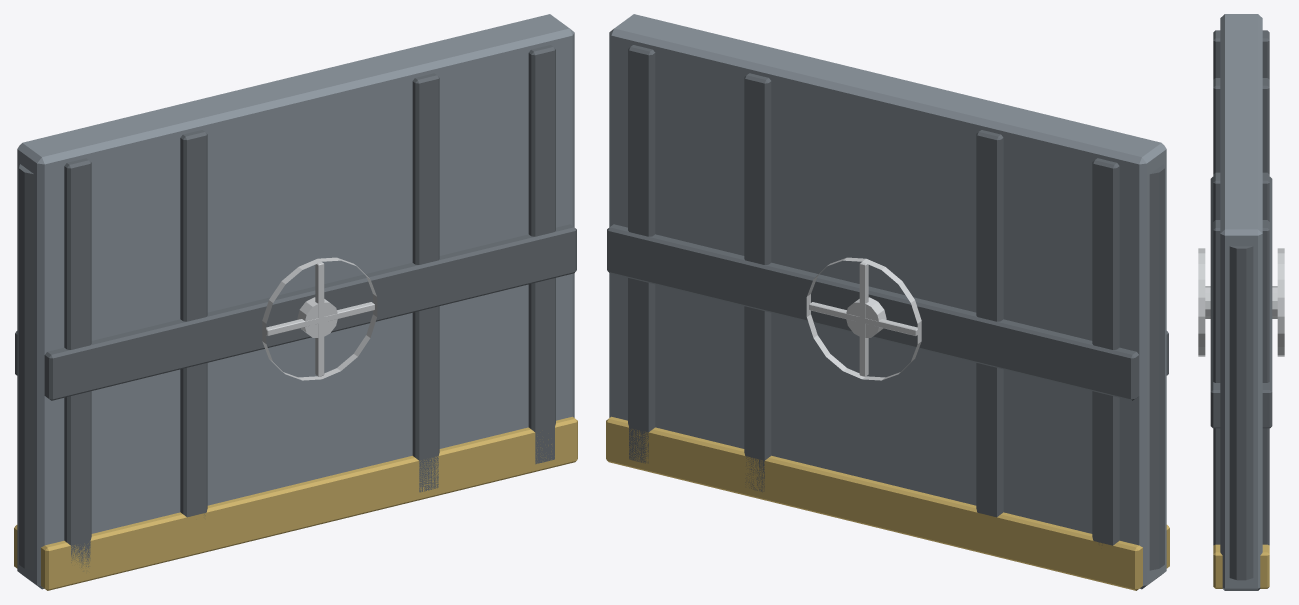
File: ship_watertight_door.glb
3 renders of one model, left to right at view 1: azimuth 30°, elevation 25°; view 2: azimuth 150°, elevation 25°; view 3: azimuth 270°, elevation 25°, orthographic. The views are drawn at different scales.
Visible parts, largest first — view 1: LeafCore, MidBeam, BotSill, VStiff_1.9, VStiff_0.95, VStiff_-1.9, VStiff_-0.95, HydRam_-2.12, WheelRim_-0.3, SpokeV_-0.3, SpokeH_-0.3, WheelHub_-0.3; view 2: LeafCore, BotSill, MidBeam, VStiff_1.9, VStiff_0.95, VStiff_-1.9, VStiff_-0.95, HydRam_-2.12, WheelRim_0.3, SpokeV_0.3, SpokeH_0.3, WheelHub_0.3; view 3: LeafCore, HydRam_2.12, VStiff_1.9, MidBeam, VStiff_-0.95, WheelRim_-0.3, WheelRim_0.3, BotSill, VStiff_-1.9, VStiff_0.95, WheelHub_-0.3, WheelHub_0.3.
Boxes of the visible parts, box(x1,y1,x2,y2) form: LeafCore: box(17, 14, 574, 589); MidBeam: box(15, 224, 576, 400); BotSill: box(14, 416, 577, 590); VStiff_1.9: box(528, 45, 555, 464); VStiff_0.95: box(412, 73, 439, 492); VStiff_-1.9: box(64, 158, 91, 571); VStiff_-0.95: box(180, 130, 207, 517); HydRam_-2.12: box(19, 164, 34, 570); WheelRim_-0.3: box(262, 257, 377, 380); SpokeV_-0.3: box(315, 262, 324, 376); SpokeH_-0.3: box(266, 302, 374, 335); WheelHub_-0.3: box(297, 297, 337, 337); LeafCore: box(609, 14, 1166, 589); BotSill: box(606, 416, 1169, 590); MidBeam: box(607, 224, 1168, 400); VStiff_1.9: box(628, 45, 655, 463); VStiff_0.95: box(744, 73, 771, 492); VStiff_-1.9: box(1092, 158, 1119, 545); VStiff_-0.95: box(976, 130, 1003, 517); HydRam_-2.12: box(1149, 164, 1164, 570); WheelRim_0.3: box(806, 257, 921, 380); SpokeV_0.3: box(859, 262, 868, 376); SpokeH_0.3: box(809, 302, 917, 335); WheelHub_0.3: box(846, 297, 886, 337); LeafCore: box(1220, 14, 1262, 590); HydRam_2.12: box(1229, 246, 1253, 580); VStiff_1.9: box(1213, 220, 1269, 545); MidBeam: box(1210, 177, 1272, 428); VStiff_-0.95: box(1213, 78, 1269, 173); WheelRim_-0.3: box(1198, 248, 1205, 356); WheelRim_0.3: box(1277, 248, 1284, 356); BotSill: box(1213, 544, 1269, 588); VStiff_-1.9: box(1213, 30, 1269, 79); VStiff_0.95: box(1213, 172, 1269, 221); WheelHub_-0.3: box(1205, 286, 1210, 318); WheelHub_0.3: box(1272, 286, 1277, 318).
Bounding box in the file's own units: 4.49 × 3.38 × 0.732.
